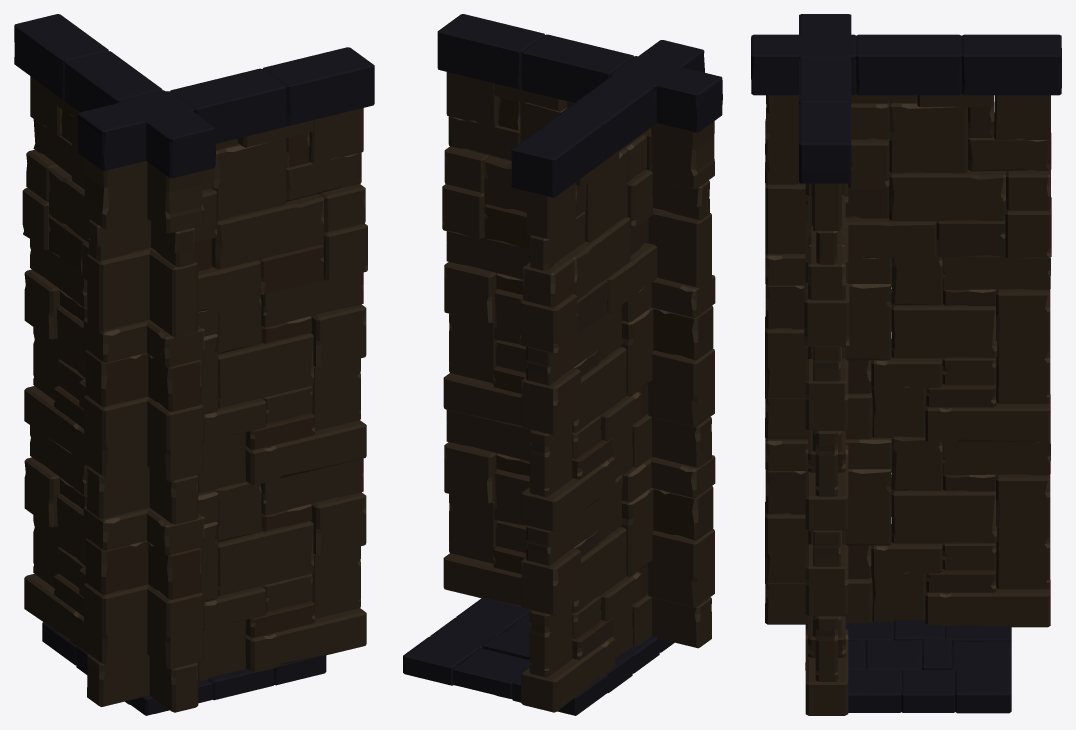
The model's file is quat_corner.obj.
3 views of the same model, side by side, from view 1: azimuth 30°, elevation 25°; view 2: azimuth 150°, elevation 25°; view 3: azimuth 270°, elevation 25° (orthographic). The views are drawn at different scales.
Parts seen in each view (by area): view 1: Wall_Modular_Cube.006_Wall_Modular_Cube.007, Wall_Modular_Cube.005_Wall_Modular_Cube.006, Wall_Modular_Cube.004, Wall_Modular_Cube.008_Wall_Modular_Cube.009, Wall_Modular_Cube.007_Wall_Modular_Cube.008, Wall_Modular_Cube.009_Wall_Modular_Cube.010, WallCover_Modular_Cube.017, WallCover_Modular_Cube.002, Floor_Modular_Cube.001; view 2: Wall_Modular_Cube.006_Wall_Modular_Cube.007, Wall_Modular_Cube.005_Wall_Modular_Cube.006, Wall_Modular_Cube.004, Wall_Modular_Cube.007_Wall_Modular_Cube.008, Wall_Modular_Cube.008_Wall_Modular_Cube.009, Wall_Modular_Cube.009_Wall_Modular_Cube.010, WallCover_Modular_Cube.017, WallCover_Modular_Cube.002, Floor_Modular_Cube.001; view 3: Wall_Modular_Cube.007_Wall_Modular_Cube.008, Wall_Modular_Cube.008_Wall_Modular_Cube.009, Wall_Modular_Cube.009_Wall_Modular_Cube.010, WallCover_Modular_Cube.002, Floor_Modular_Cube.001, WallCover_Modular_Cube.017, Wall_Modular_Cube.006_Wall_Modular_Cube.007, Wall_Modular_Cube.005_Wall_Modular_Cube.006, Wall_Modular_Cube.004.
Part boxes in pixels (bbox=[...]): Wall_Modular_Cube.006_Wall_Modular_Cube.007: bbox=[83, 458, 366, 706]; Wall_Modular_Cube.005_Wall_Modular_Cube.006: bbox=[83, 272, 366, 518]; Wall_Modular_Cube.004: bbox=[84, 108, 367, 331]; Wall_Modular_Cube.008_Wall_Modular_Cube.009: bbox=[24, 239, 204, 524]; Wall_Modular_Cube.007_Wall_Modular_Cube.008: bbox=[24, 425, 204, 712]; Wall_Modular_Cube.009_Wall_Modular_Cube.010: bbox=[22, 76, 204, 337]; WallCover_Modular_Cube.017: bbox=[77, 47, 374, 170]; WallCover_Modular_Cube.002: bbox=[14, 14, 215, 178]; Floor_Modular_Cube.001: bbox=[42, 622, 326, 715]; Wall_Modular_Cube.006_Wall_Modular_Cube.007: bbox=[443, 410, 715, 648]; Wall_Modular_Cube.005_Wall_Modular_Cube.006: bbox=[443, 231, 715, 467]; Wall_Modular_Cube.004: bbox=[442, 72, 714, 288]; Wall_Modular_Cube.007_Wall_Modular_Cube.008: bbox=[521, 458, 654, 712]; Wall_Modular_Cube.008_Wall_Modular_Cube.009: bbox=[521, 283, 654, 532]; Wall_Modular_Cube.009_Wall_Modular_Cube.010: bbox=[519, 128, 657, 353]; WallCover_Modular_Cube.017: bbox=[437, 14, 722, 132]; WallCover_Modular_Cube.002: bbox=[511, 40, 704, 197]; Floor_Modular_Cube.001: bbox=[403, 598, 674, 715]; Wall_Modular_Cube.007_Wall_Modular_Cube.008: bbox=[765, 437, 1050, 627]; Wall_Modular_Cube.008_Wall_Modular_Cube.009: bbox=[765, 254, 1050, 442]; Wall_Modular_Cube.009_Wall_Modular_Cube.010: bbox=[765, 94, 1051, 258]; WallCover_Modular_Cube.002: bbox=[751, 34, 1061, 95]; Floor_Modular_Cube.001: bbox=[805, 620, 1011, 713]; WallCover_Modular_Cube.017: bbox=[799, 14, 851, 183]; Wall_Modular_Cube.006_Wall_Modular_Cube.007: bbox=[805, 443, 848, 715]; Wall_Modular_Cube.005_Wall_Modular_Cube.006: bbox=[805, 346, 848, 530]; Wall_Modular_Cube.004: bbox=[804, 183, 849, 346].
Size of the model in its own units: 3.02 by 6.36 by 3.02.
